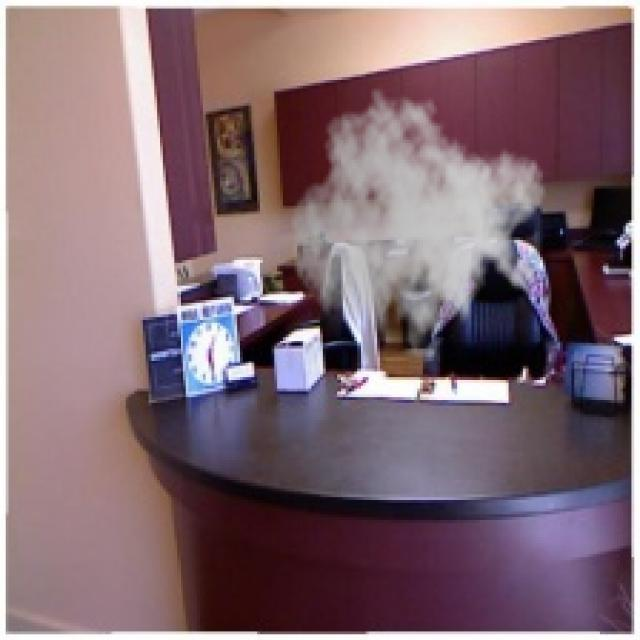Smoke: (288, 85, 548, 368)
